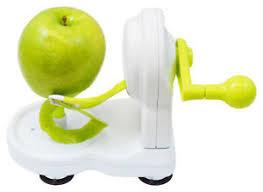Organic: (11, 7, 121, 100)
